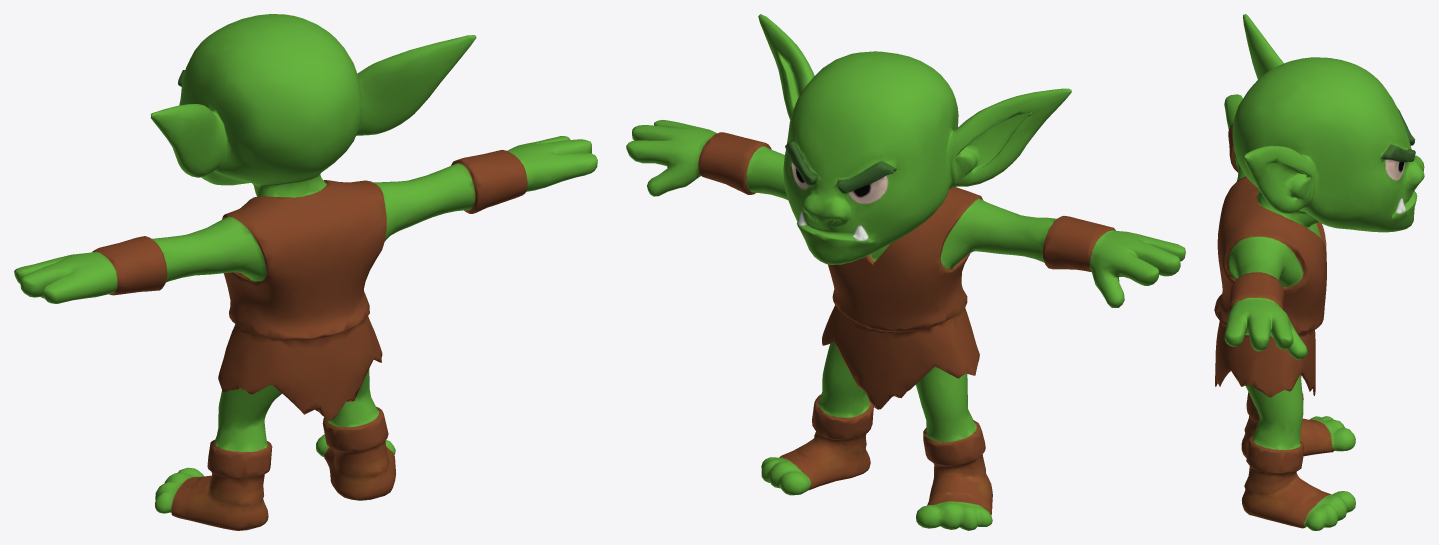
Rendered from Variant_D.glb.
The picture shows the model from 3 angles, left to right: view 1: azimuth 30°, elevation 25°; view 2: azimuth 150°, elevation 25°; view 3: azimuth 270°, elevation 25°; orthographic projection. The views are drawn at different scales.
Parts seen in each view (by area): view 1: world; view 2: world; view 3: world.
Part boxes in pixels (x1,y1,x2,y2): world: (14, 14, 597, 530); world: (626, 14, 1185, 530); world: (1214, 14, 1424, 530).
Size of the model in its own units: 0.9693 by 0.7485 by 0.3443.
1 material, 1 textured.
